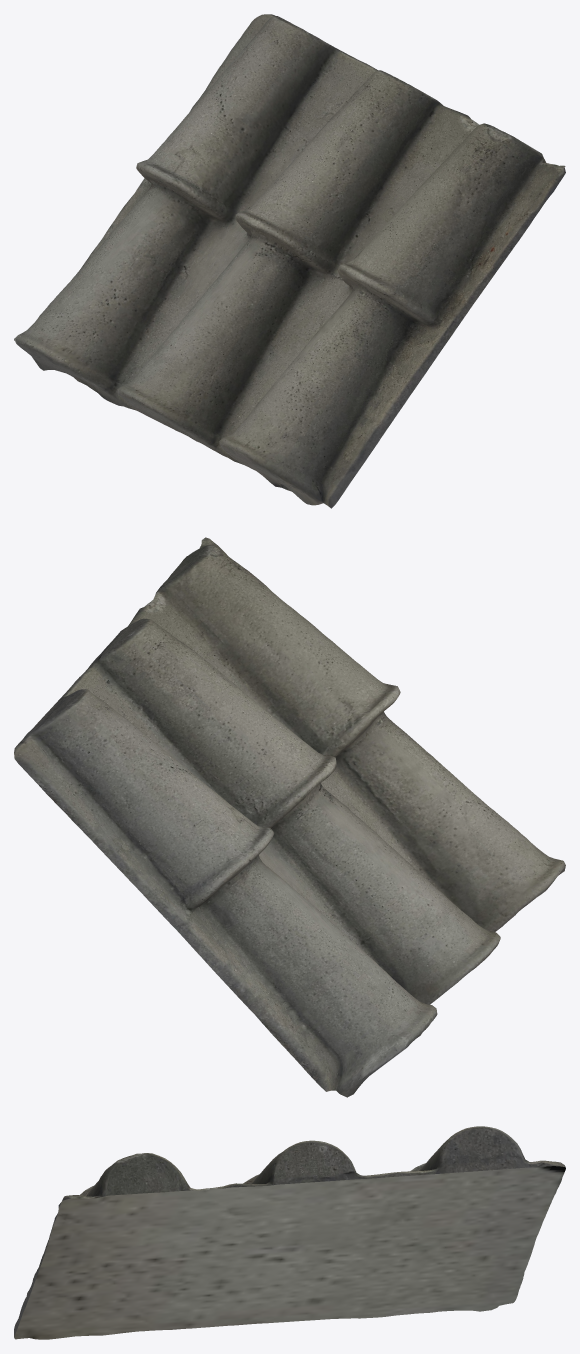
File: Retopo_3DModel_mesh.115.glb
3 views of the same model, one above another, from view 1: azimuth 30°, elevation 25°; view 2: azimuth 150°, elevation 25°; view 3: azimuth 270°, elevation 25° (orthographic). The views are drawn at different scales.
Visible parts, largest first — view 1: Retopo_3DModel_mesh.115; view 2: Retopo_3DModel_mesh.115; view 3: Retopo_3DModel_mesh.115.
Boxes of the visible parts, x1,y1,x2,y2 form: Retopo_3DModel_mesh.115: (14,14,565,508); Retopo_3DModel_mesh.115: (14,537,565,1097); Retopo_3DModel_mesh.115: (14,1126,565,1339).
Size of the model in its own units: 3.66 by 2.76 by 4.49.
1 material, 1 textured.
